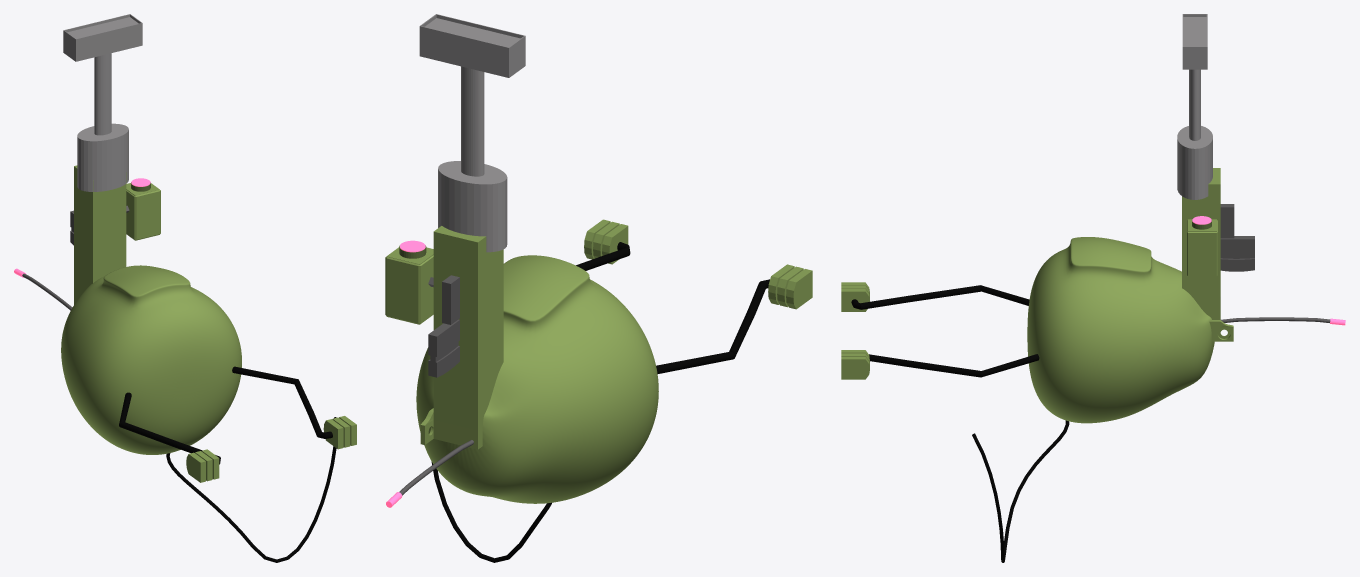
The model's file is ratTurret.fbx.
3 renders of one model, left to right at view 1: azimuth 30°, elevation 25°; view 2: azimuth 150°, elevation 25°; view 3: azimuth 270°, elevation 25°, orthographic. The views are drawn at different scales.
Visible parts, largest first — view 1: Body, Base, BarrelBase, Choke, CamCase, Barrel, Tail, Foot.R, Foot.L, LowerLeg.R, LowerLeg.L, UpperLeg.L; view 2: Body, Base, BarrelBase, Choke, CamCase, Barrel, Foot.R, LargeMag, Foot.L, Tail, SmallMag, LowerLeg.R (+2 smaller); view 3: Body, Base, BarrelBase, Choke, CamCase, LargeMag, Tail, LowerLeg.R, Barrel, Foot.L, LowerLeg.L, Foot.R.
Part boxes in pixels (box(x1,y1,x2,y2)): Body: box(61, 265, 241, 454); Base: box(74, 165, 126, 304); BarrelBase: box(77, 123, 128, 191); Choke: box(63, 14, 142, 61); CamCase: box(126, 190, 160, 240); Barrel: box(94, 53, 111, 135); Tail: box(166, 417, 336, 562); Foot.R: box(186, 449, 219, 482); Foot.L: box(323, 416, 356, 449); LowerLeg.R: box(119, 421, 220, 464); LowerLeg.L: box(294, 379, 332, 438); UpperLeg.L: box(232, 366, 295, 384); Body: box(416, 255, 658, 503); Base: box(420, 226, 503, 449); BarrelBase: box(438, 161, 507, 252); Choke: box(419, 14, 525, 77); CamCase: box(385, 255, 433, 324); Barrel: box(461, 66, 484, 176); Foot.R: box(768, 264, 812, 309); LargeMag: box(428, 319, 459, 377); Foot.L: box(584, 219, 628, 264); Tail: box(431, 461, 551, 562); SmallMag: box(442, 275, 459, 324); LowerLeg.R: box(729, 279, 769, 358); Body: box(1027, 237, 1214, 423); Base: box(1182, 168, 1233, 341); BarrelBase: box(1177, 126, 1212, 199); Choke: box(1182, 14, 1207, 69); CamCase: box(1187, 220, 1217, 276); LargeMag: box(1220, 236, 1254, 271); Tail: box(972, 420, 1069, 562); LowerLeg.R: box(851, 285, 980, 309); Barrel: box(1189, 69, 1200, 140); Foot.L: box(841, 350, 869, 379); LowerLeg.L: box(869, 354, 981, 377); Foot.R: box(841, 282, 869, 311).
Size of the model in its own units: 288 by 601 by 562.
